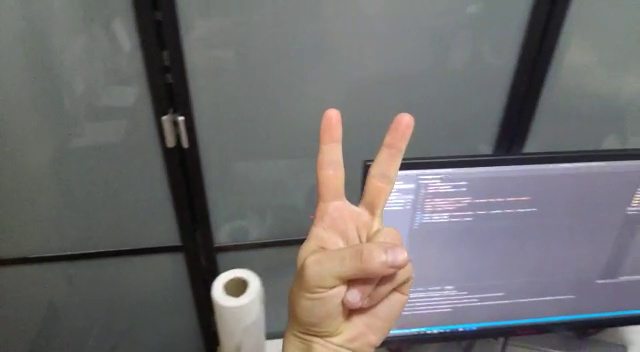Peace: (276, 102, 432, 351)
